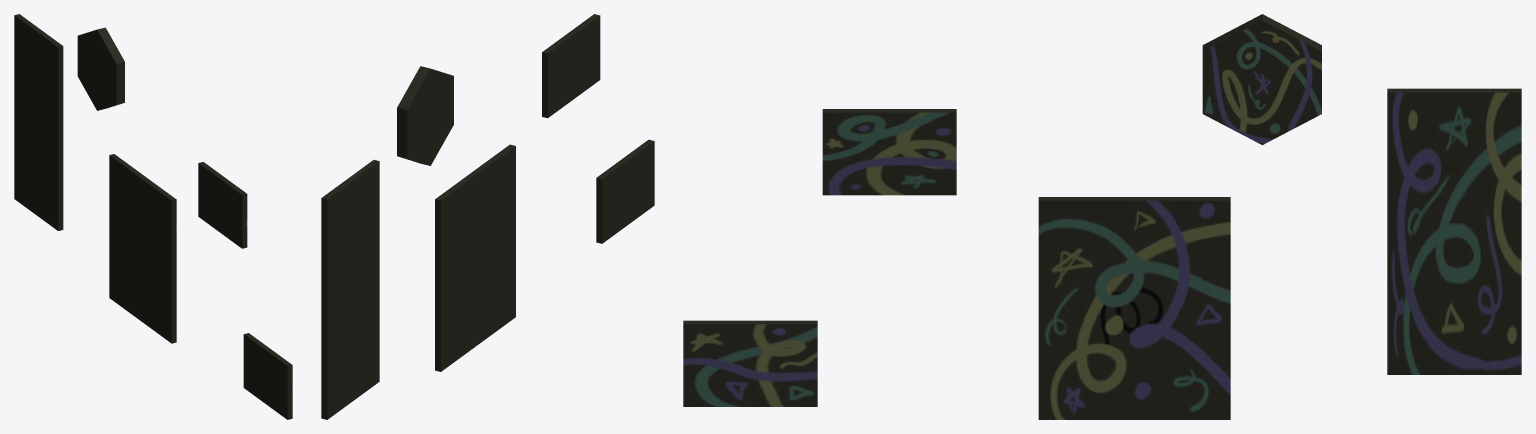
Rendered from pictures.fbx.
The picture shows the model from 3 angles, left to right: view 1: azimuth 30°, elevation 25°; view 2: azimuth 150°, elevation 25°; view 3: azimuth 270°, elevation 25°; orthographic projection. The views are drawn at different scales.
Parts seen in each view (by area): view 1: pCube5; view 2: pCube5; view 3: pCube5.
Boxes of the visible parts, <box> form: pCube5: <box>14,14,292,419</box>; pCube5: <box>321,14,654,419</box>; pCube5: <box>683,14,1521,419</box>.
Size of the model in its own units: 0.1348 by 3.93 by 7.45.
1 material, 1 textured.
